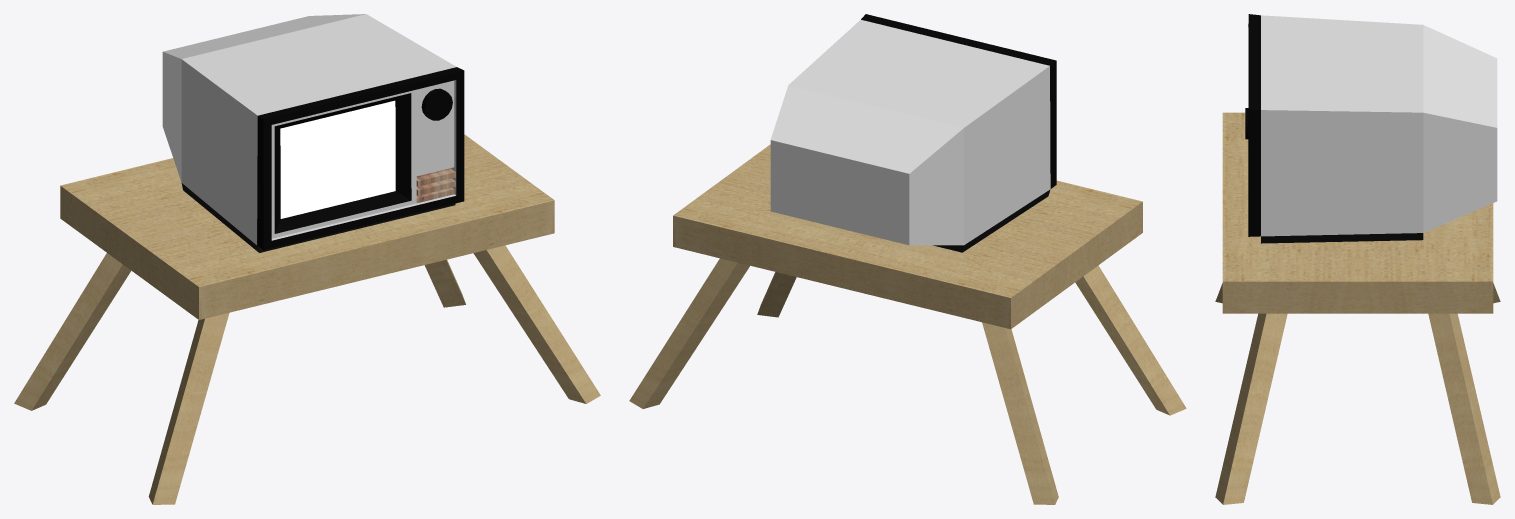
3 renders of one model, left to right at view 1: azimuth 30°, elevation 25°; view 2: azimuth 150°, elevation 25°; view 3: azimuth 270°, elevation 25°, orthographic. The views are drawn at different scales.
Visible parts, largest first — view 1: Plane, Cube; view 2: Plane, Cube; view 3: Plane, Cube.
Boxes of the visible parts, x1,y1,x2,y2 form: Plane: (162, 14, 464, 252); Cube: (14, 134, 600, 504); Plane: (770, 14, 1056, 252); Cube: (629, 144, 1186, 504); Plane: (1245, 14, 1497, 243); Cube: (1215, 112, 1500, 504).
Bounding box in the file's own units: 4.49 × 3.33 × 2.54.
Materials: 7 (3 with a texture image).
